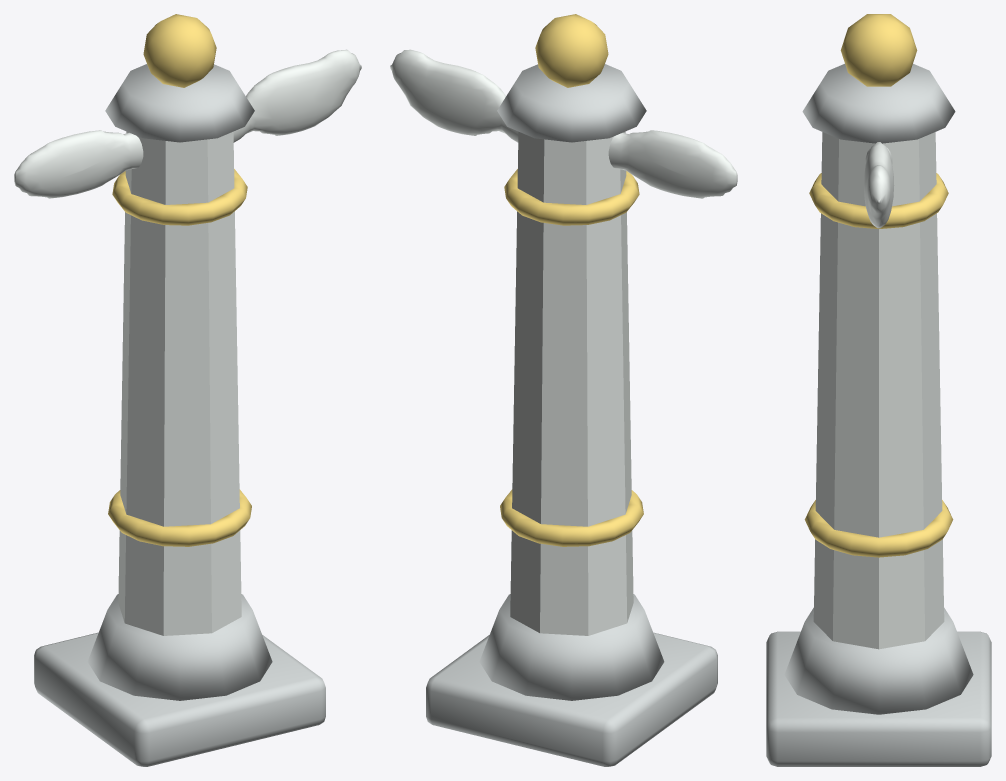
Rendered from pillar.glb.
The picture shows the model from 3 angles, left to right: view 1: azimuth 30°, elevation 25°; view 2: azimuth 150°, elevation 25°; view 3: azimuth 270°, elevation 25°; orthographic projection. The views are drawn at different scales.
Visible parts, largest first — view 1: Shaft, Plinth, CloudPlate, Lotus, Cap, Pearl, Band1, Band2; view 2: Shaft, Plinth, CloudPlate, Lotus, Cap, Pearl, Band1, Band2; view 3: Shaft, Plinth, Lotus, Cap, Pearl, Band1, Band2, CloudPlate.
Boxes of the visible parts, x1,y1,x2,y2 form: Shaft: (118,131,241,635); Plinth: (34,632,325,766); CloudPlate: (14,49,361,198); Lotus: (87,594,272,700); Cap: (105,64,254,142); Pearl: (143,14,216,87); Band1: (108,489,251,546); Band2: (112,169,247,225); Shaft: (510,131,633,635); Plinth: (426,632,717,766); CloudPlate: (390,49,737,198); Lotus: (479,594,664,700); Cap: (497,64,646,142); Pearl: (535,14,608,87); Band1: (500,489,643,546); Band2: (504,169,639,225); Shaft: (813,132,944,649); Plinth: (766,631,991,766); Lotus: (784,607,973,714); Cap: (802,63,955,143); Pearl: (840,14,917,86); Band1: (804,500,953,557); Band2: (809,173,948,228); CloudPlate: (864,142,894,228).
Bounding box in the file's own units: 1.81 × 3.47 × 1.
